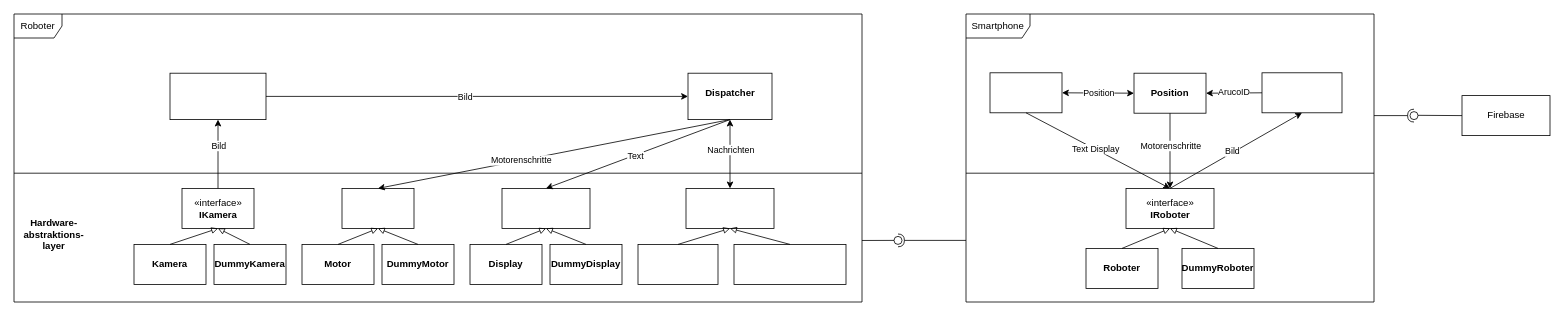
Image size: 1564x316. Some labels were removed from this diagram. Each missing label, with the centre of its shape:
"Bildverarbeitung" goes at point 1301,92.
"Bildvorverarbeitung" goes at point 217,96.
"DummyKommunikation" goes at point 789,264.
"Kommunikation" goes at point 677,264.
"Spiellogik" goes at point 1025,92.
"«interface» IDisplay" goes at point 545,208.
"«interface» IKommunikation" goes at point 729,208.
"«interface» IMotor" goes at point 377,208.
